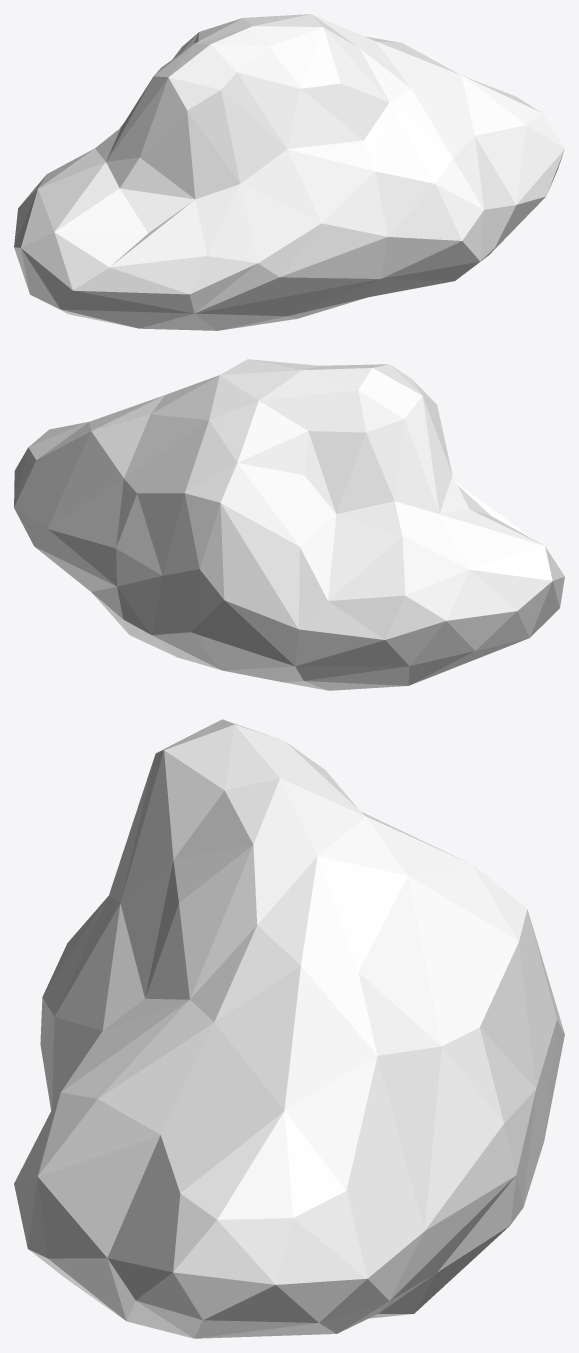
Rendered from Cloud_02.fbx.
3 renders of one model, top to bottom at view 1: azimuth 30°, elevation 25°; view 2: azimuth 150°, elevation 25°; view 3: azimuth 270°, elevation 25°, orthographic. The views are drawn at different scales.
Visible parts, largest first — view 1: Cloud_02; view 2: Cloud_02; view 3: Cloud_02.
Boxes of the visible parts, x1,y1,x2,y2 form: Cloud_02: [14, 14, 564, 330]; Cloud_02: [14, 359, 564, 690]; Cloud_02: [14, 719, 564, 1338].
Bounding box in the file's own units: 4.31 × 2.22 × 2.39.
